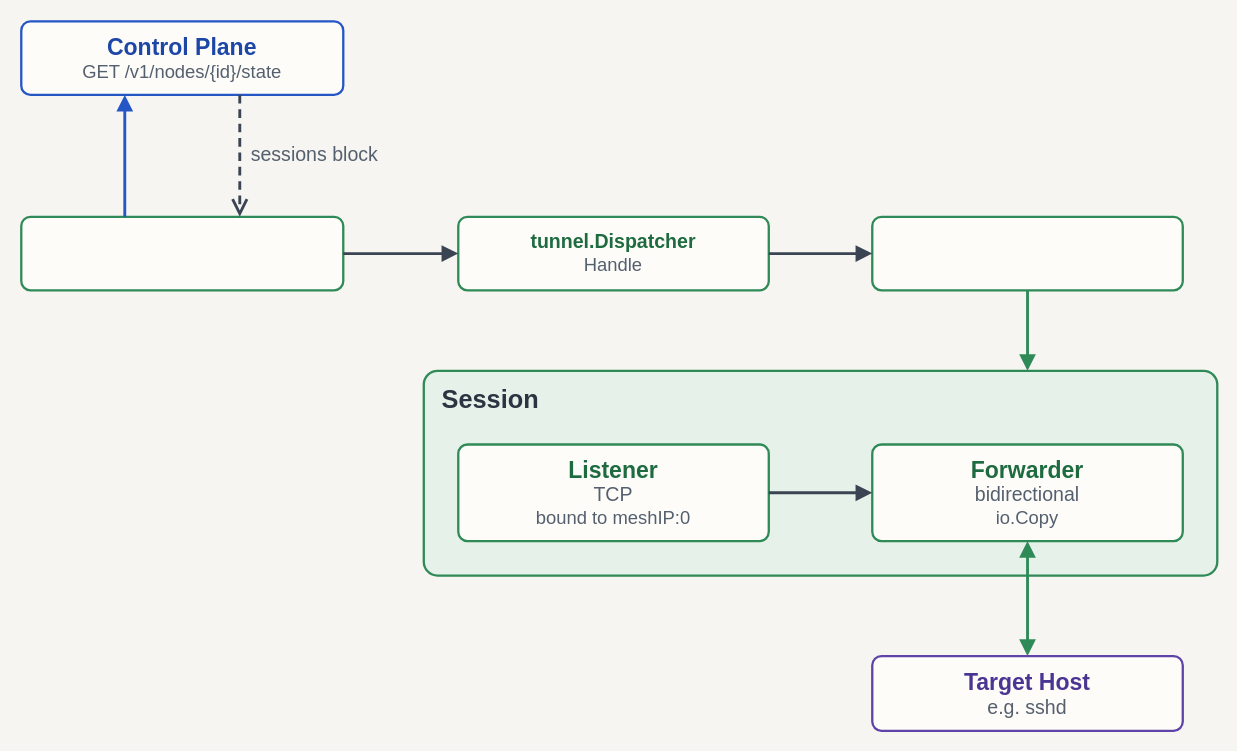
Some shapes in this 1237 by 751 pixel diagram are drawn without their labels. The box of each missing label's shape, as (x1, y1, x2, y2) in pixels:
Reconciler internal/reconcile: (20, 215, 344, 291)
SessionManager CreateSession: (871, 215, 1183, 291)
